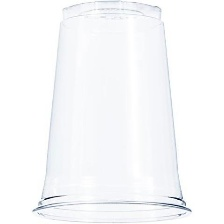glass: (29, 0, 197, 224)
